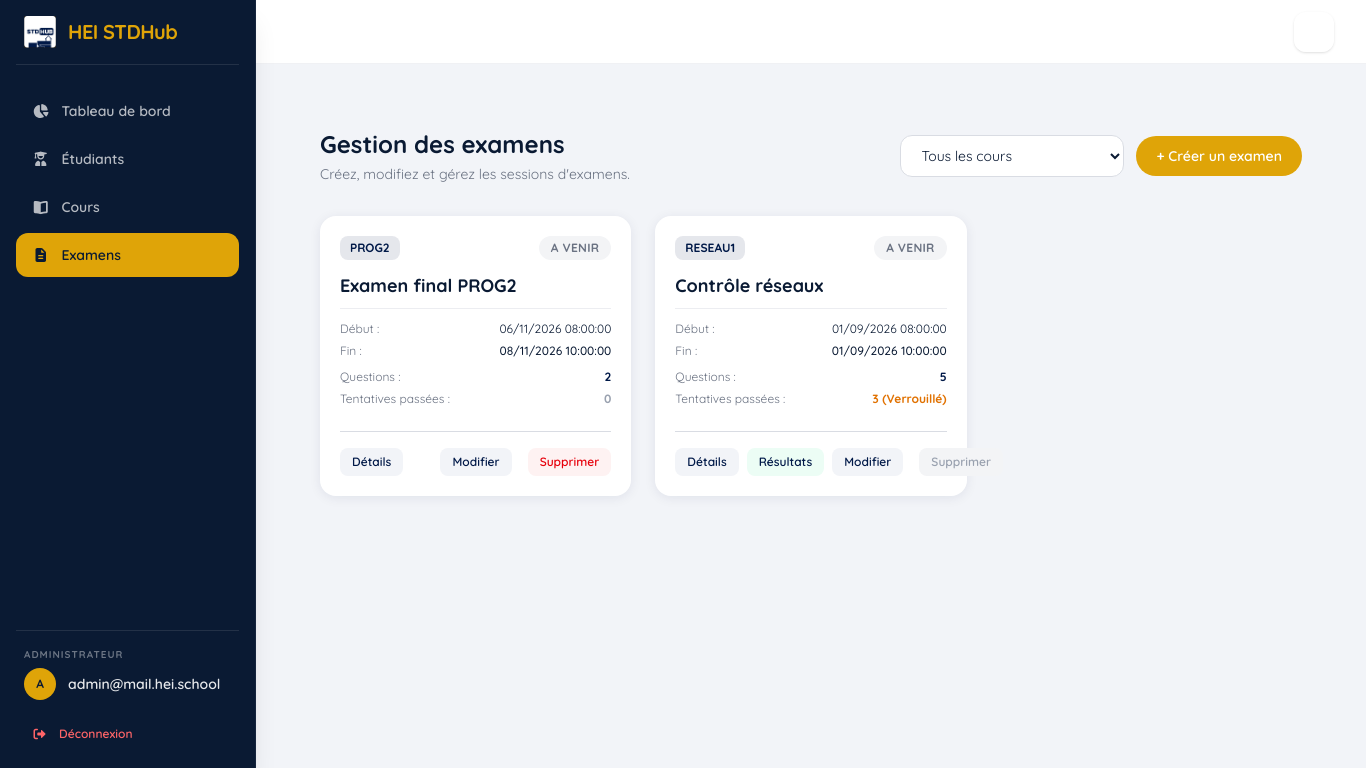
Test: Gestion des examens (admin) › affiche une erreur si la date de fin précède la date de début
The image size is (1366, 768).
Click the button "+ Créer un examen" at [1219, 156], box [1136, 136, 1302, 176]
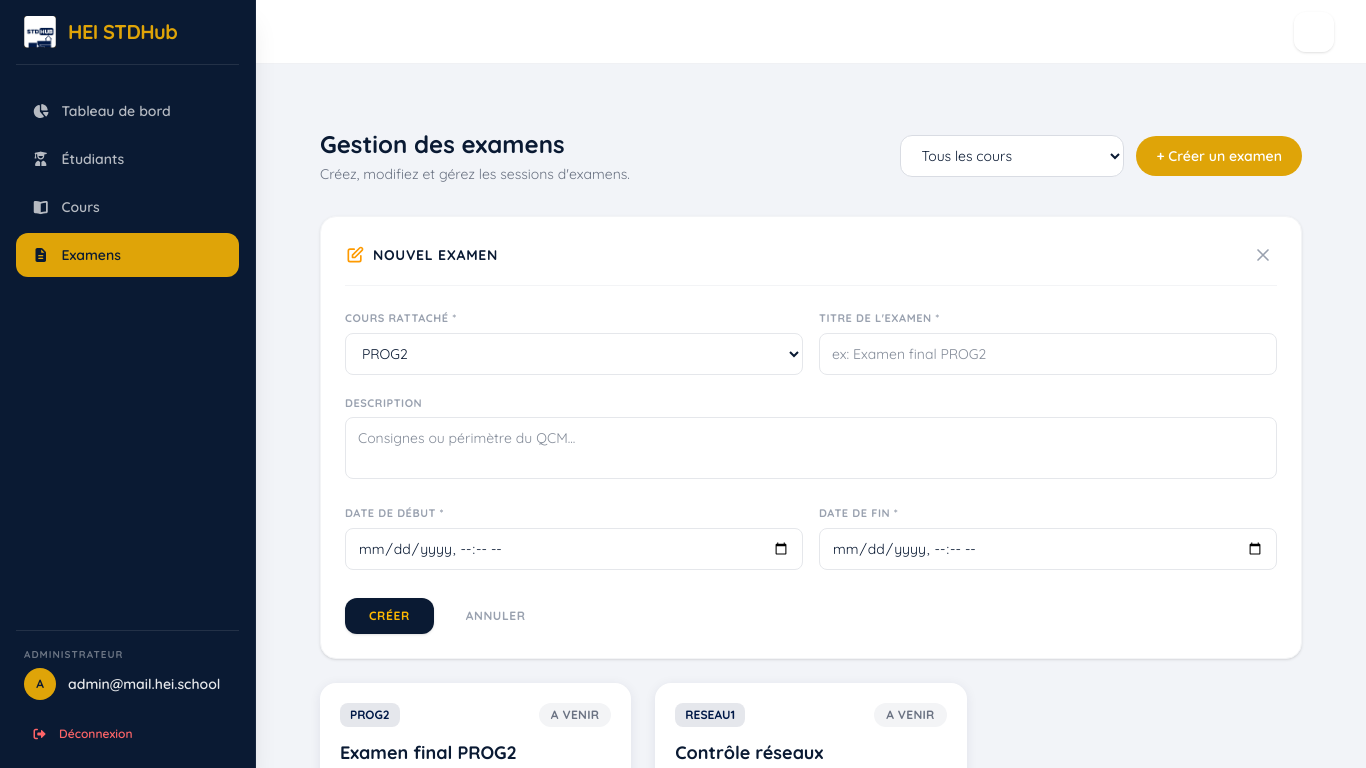
Select "PROG2" in the dropdown below "COURS RATTACHÉ *" at [574, 354], box [345, 333, 803, 375]
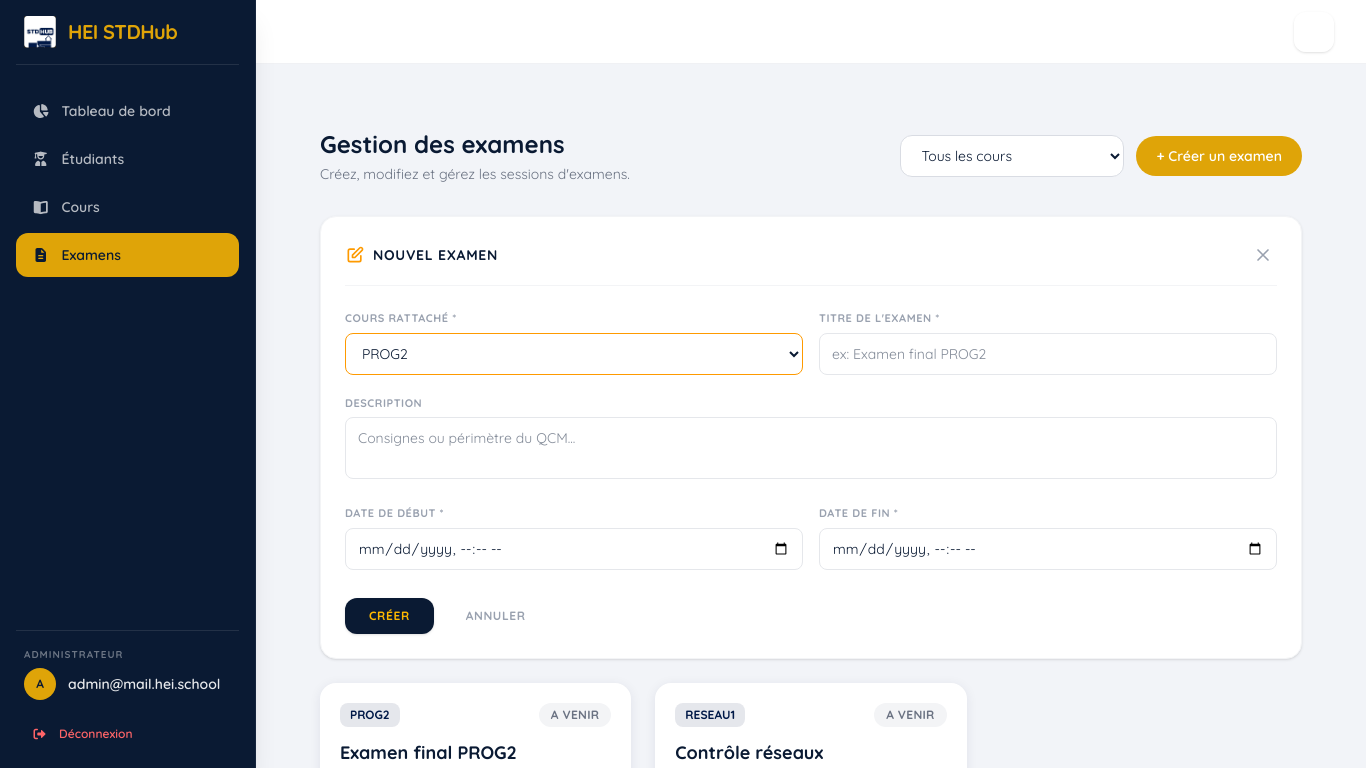
Type "QCM invalide" into the field with placeholder "ex: Examen final PROG2" at [1048, 354], box [819, 333, 1277, 375]
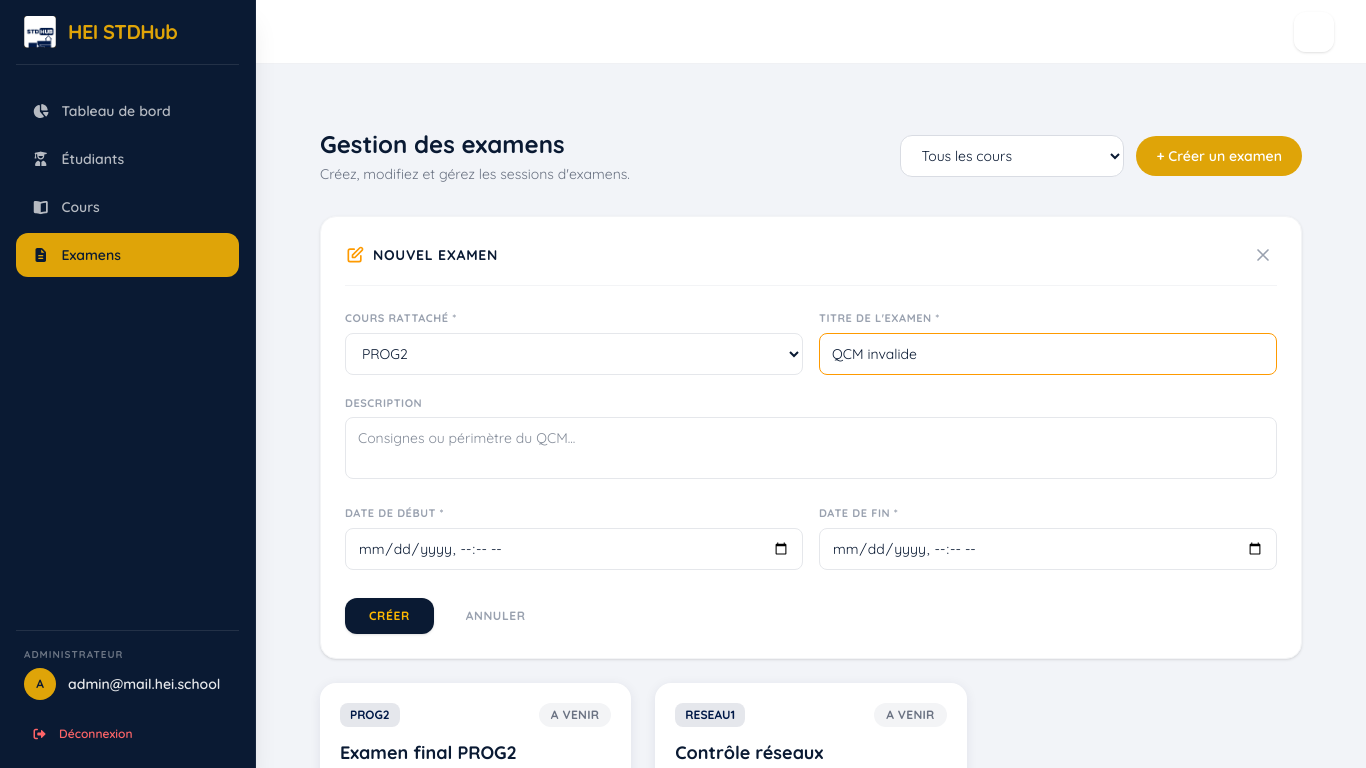
Type "2026-12-01T10:00" into the field below "DATE DE DÉBUT *" at [574, 549], box [345, 528, 803, 570]
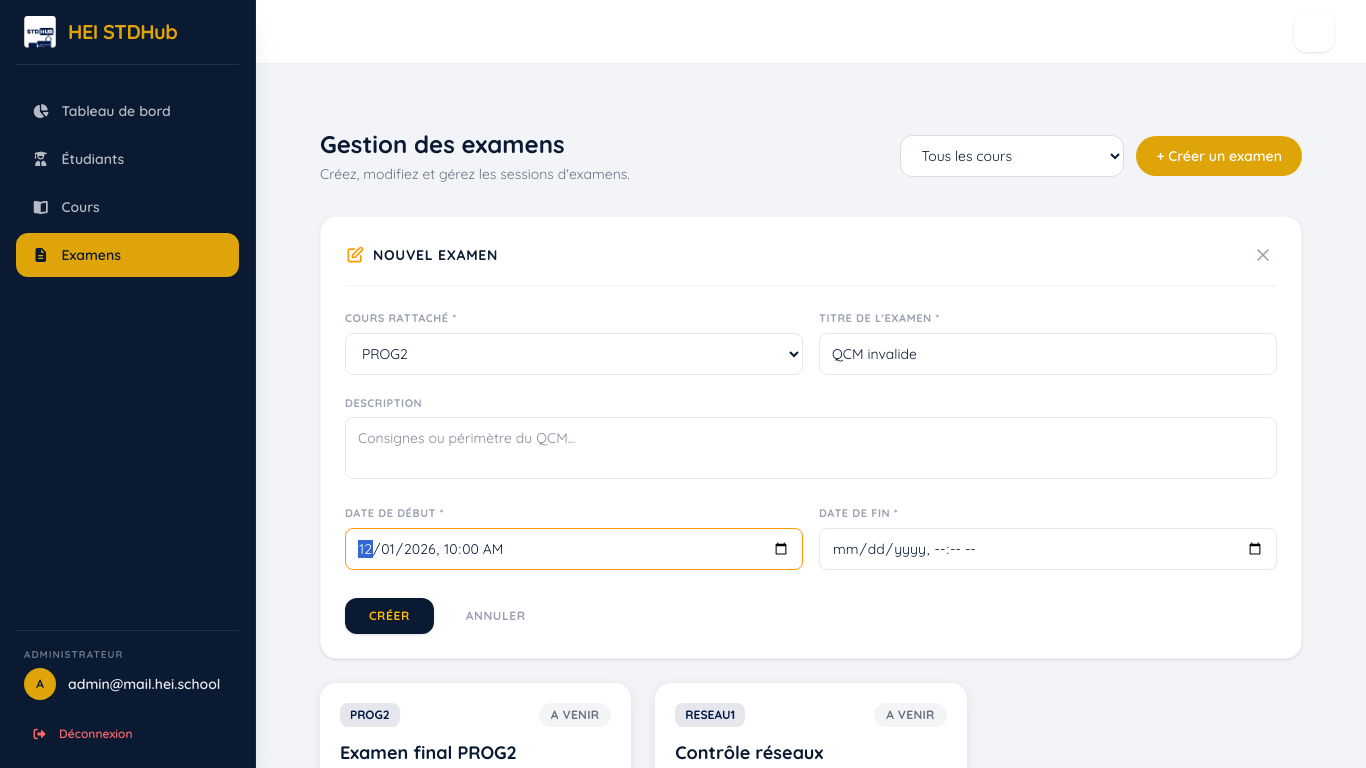
Type "2026-12-01T08:00" into the field below "DATE DE FIN *" at [1048, 549], box [819, 528, 1277, 570]
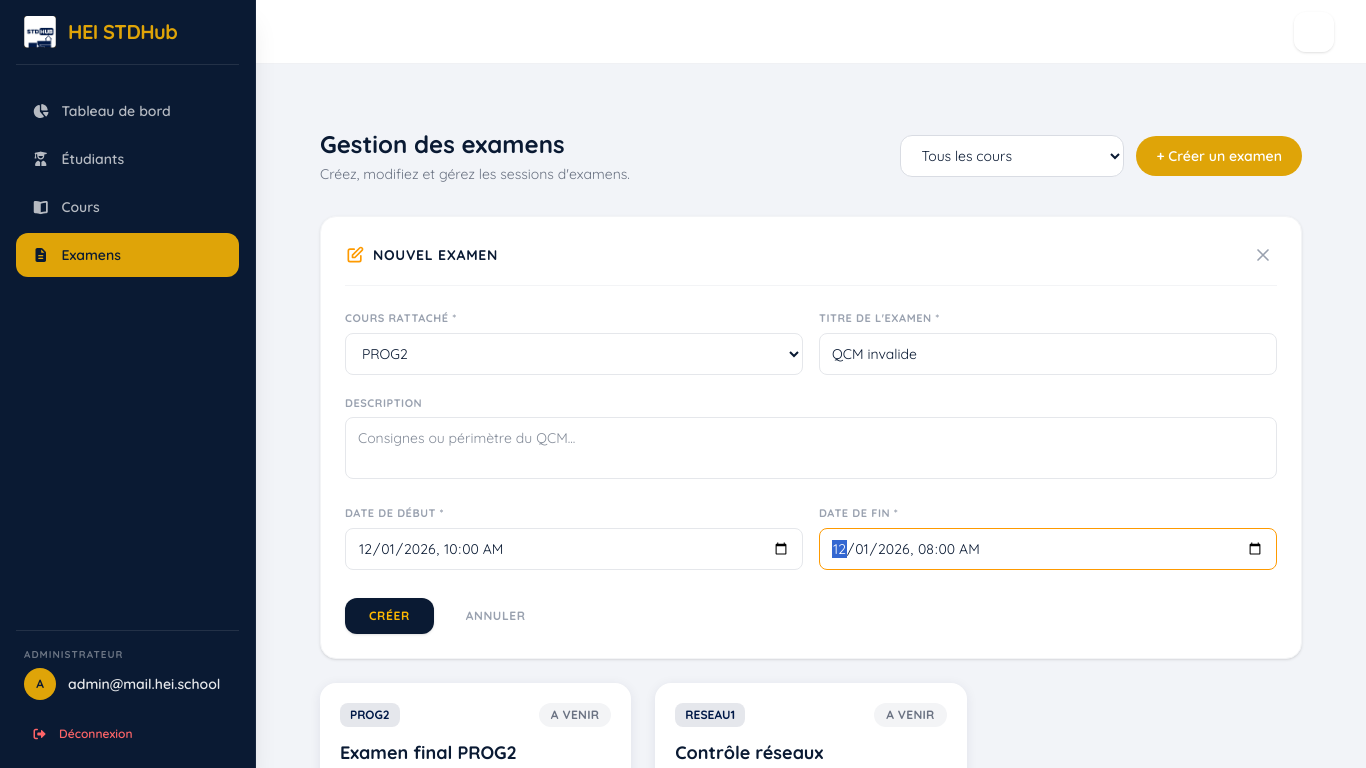
Click the button "CRÉER" at [390, 616], box [345, 598, 434, 634]
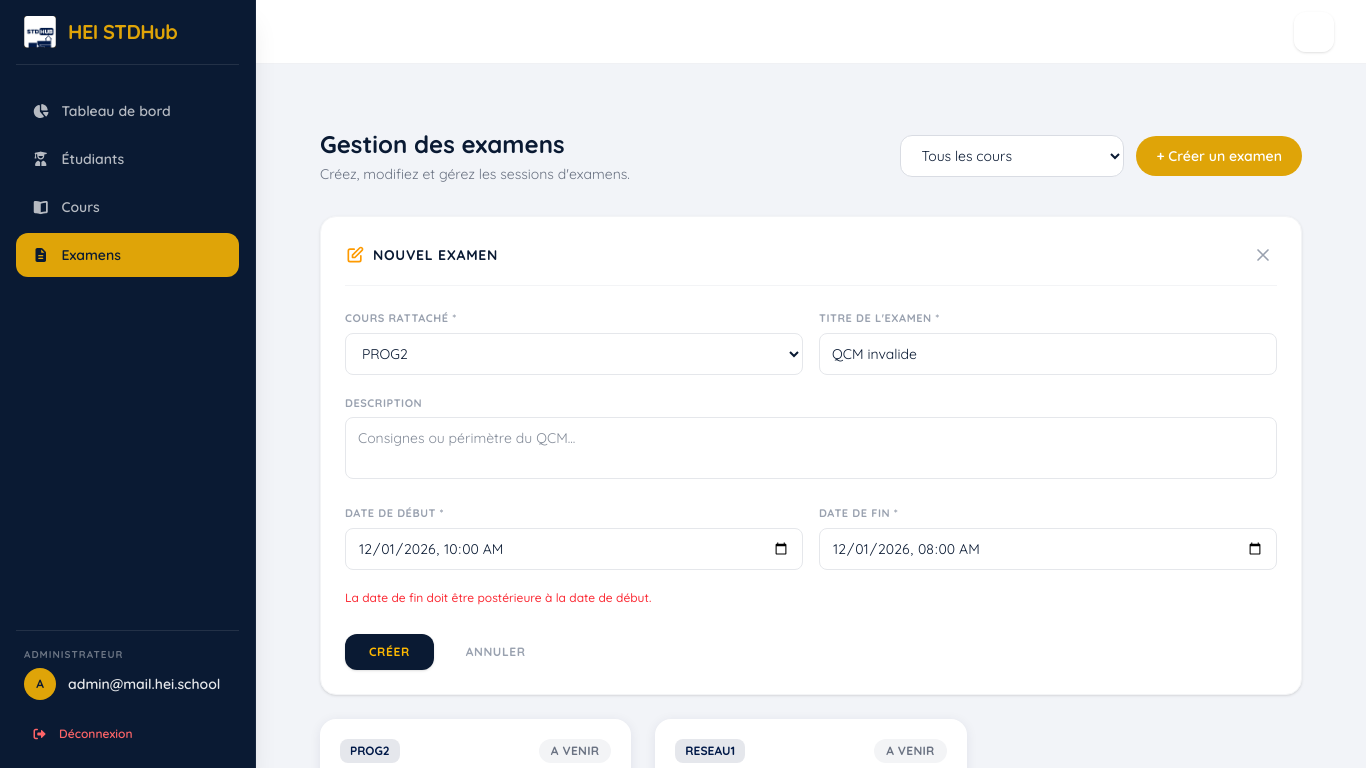
Expected: the text "La date de fin doit être postérieure à la date de début." is shown, [345, 590, 651, 604]
